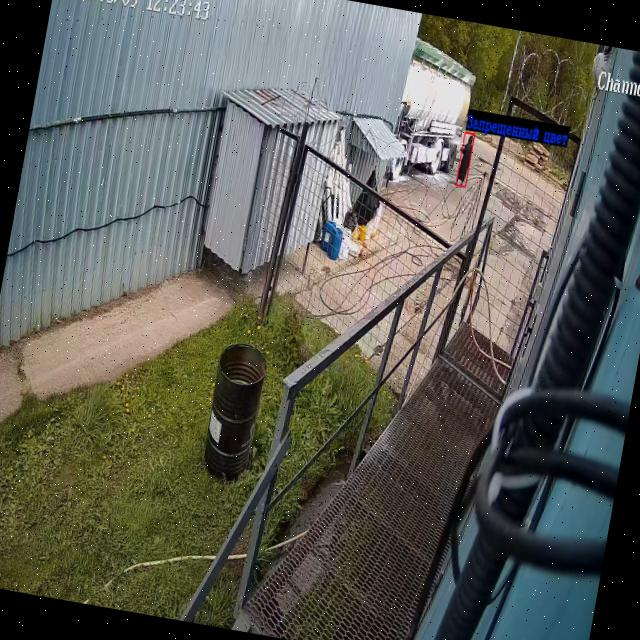Barrel: (202, 345, 266, 483)
